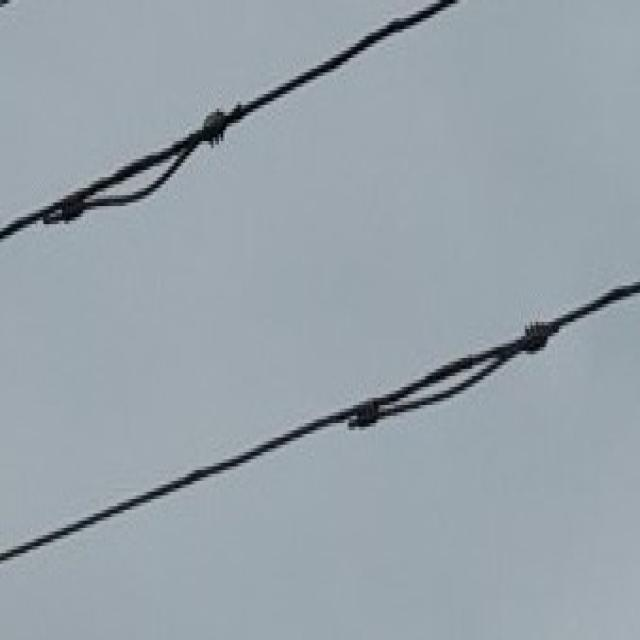wire: (0, 2, 495, 283)
